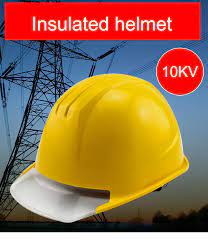Helmet: (21, 79, 178, 218)
